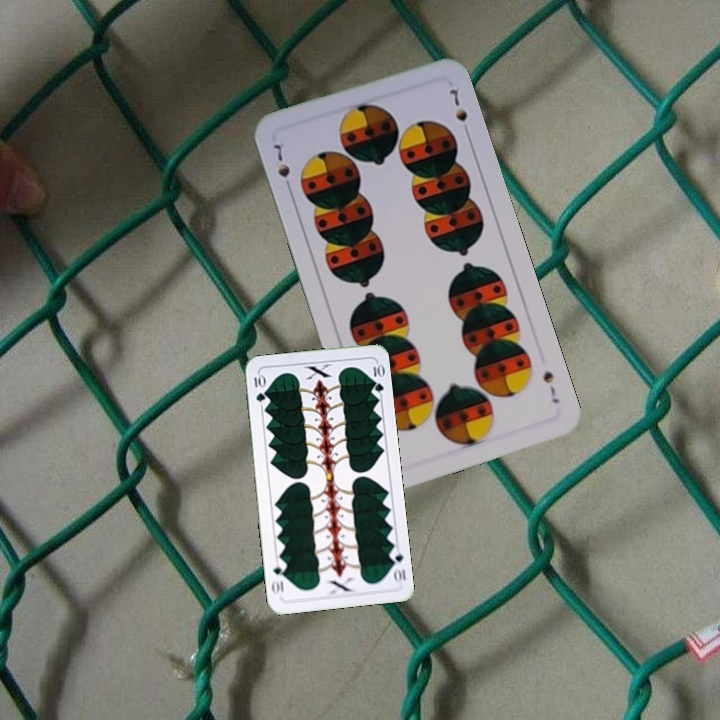G10: (386, 545, 409, 586), (250, 370, 267, 404)
S7: (269, 140, 295, 195), (539, 367, 562, 406)
